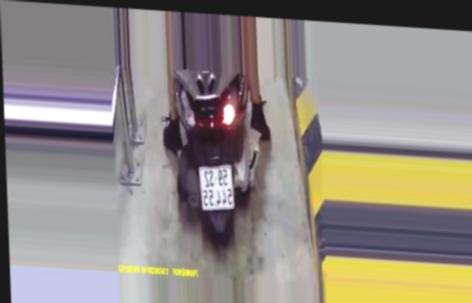License_Plate: (190, 160, 241, 214)
